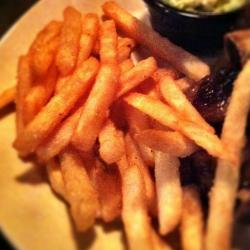fries: (33, 15, 185, 216)
